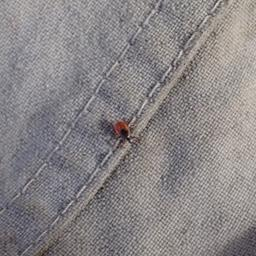Ixodes scapularis: (105, 118, 140, 148)
